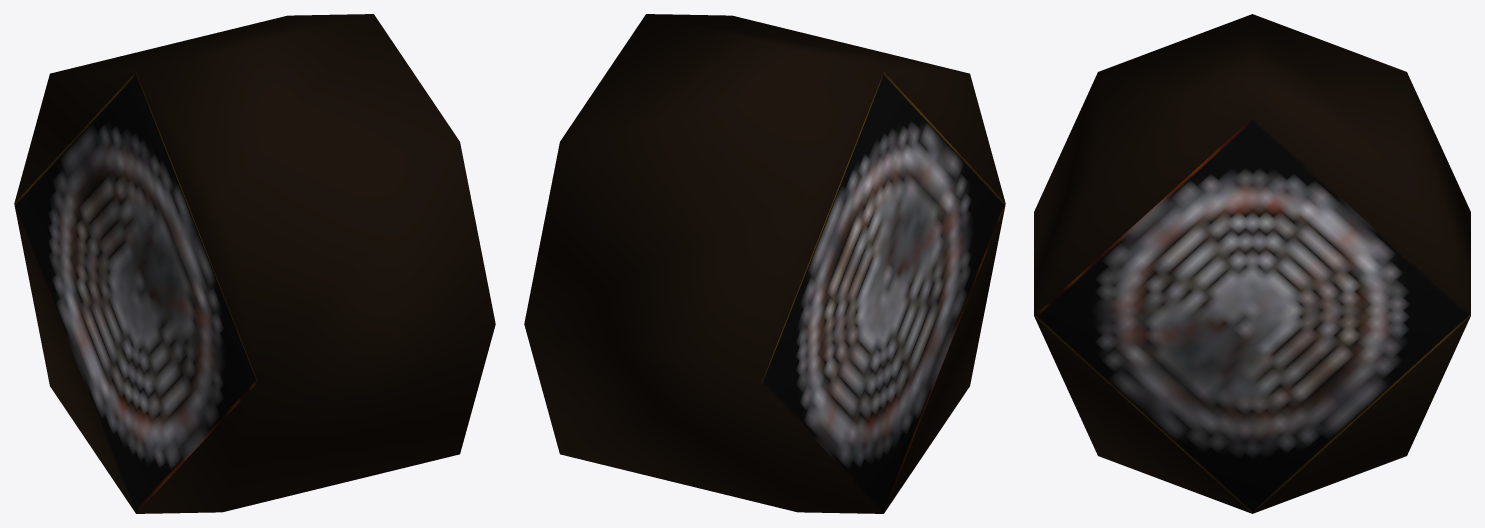
Rendered from WheelRearR.obj.
3 renders of one model, left to right at view 1: azimuth 30°, elevation 25°; view 2: azimuth 150°, elevation 25°; view 3: azimuth 270°, elevation 25°, orthographic. The views are drawn at different scales.
Parts seen in each view (by area): view 1: WheelRearR; view 2: WheelRearR; view 3: WheelRearR.
Boxes of the visible parts, box(x1,y1,x2,y2) form: WheelRearR: box(14, 14, 495, 513); WheelRearR: box(524, 14, 1005, 513); WheelRearR: box(1034, 14, 1470, 513).
Size of the model in its own units: 0.9048 by 1.61 by 1.61.
2 materials, 1 textured.
